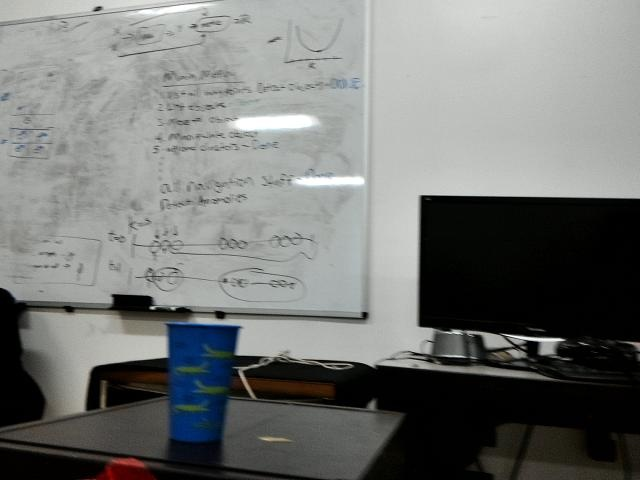water_cup: (159, 315, 242, 449)
